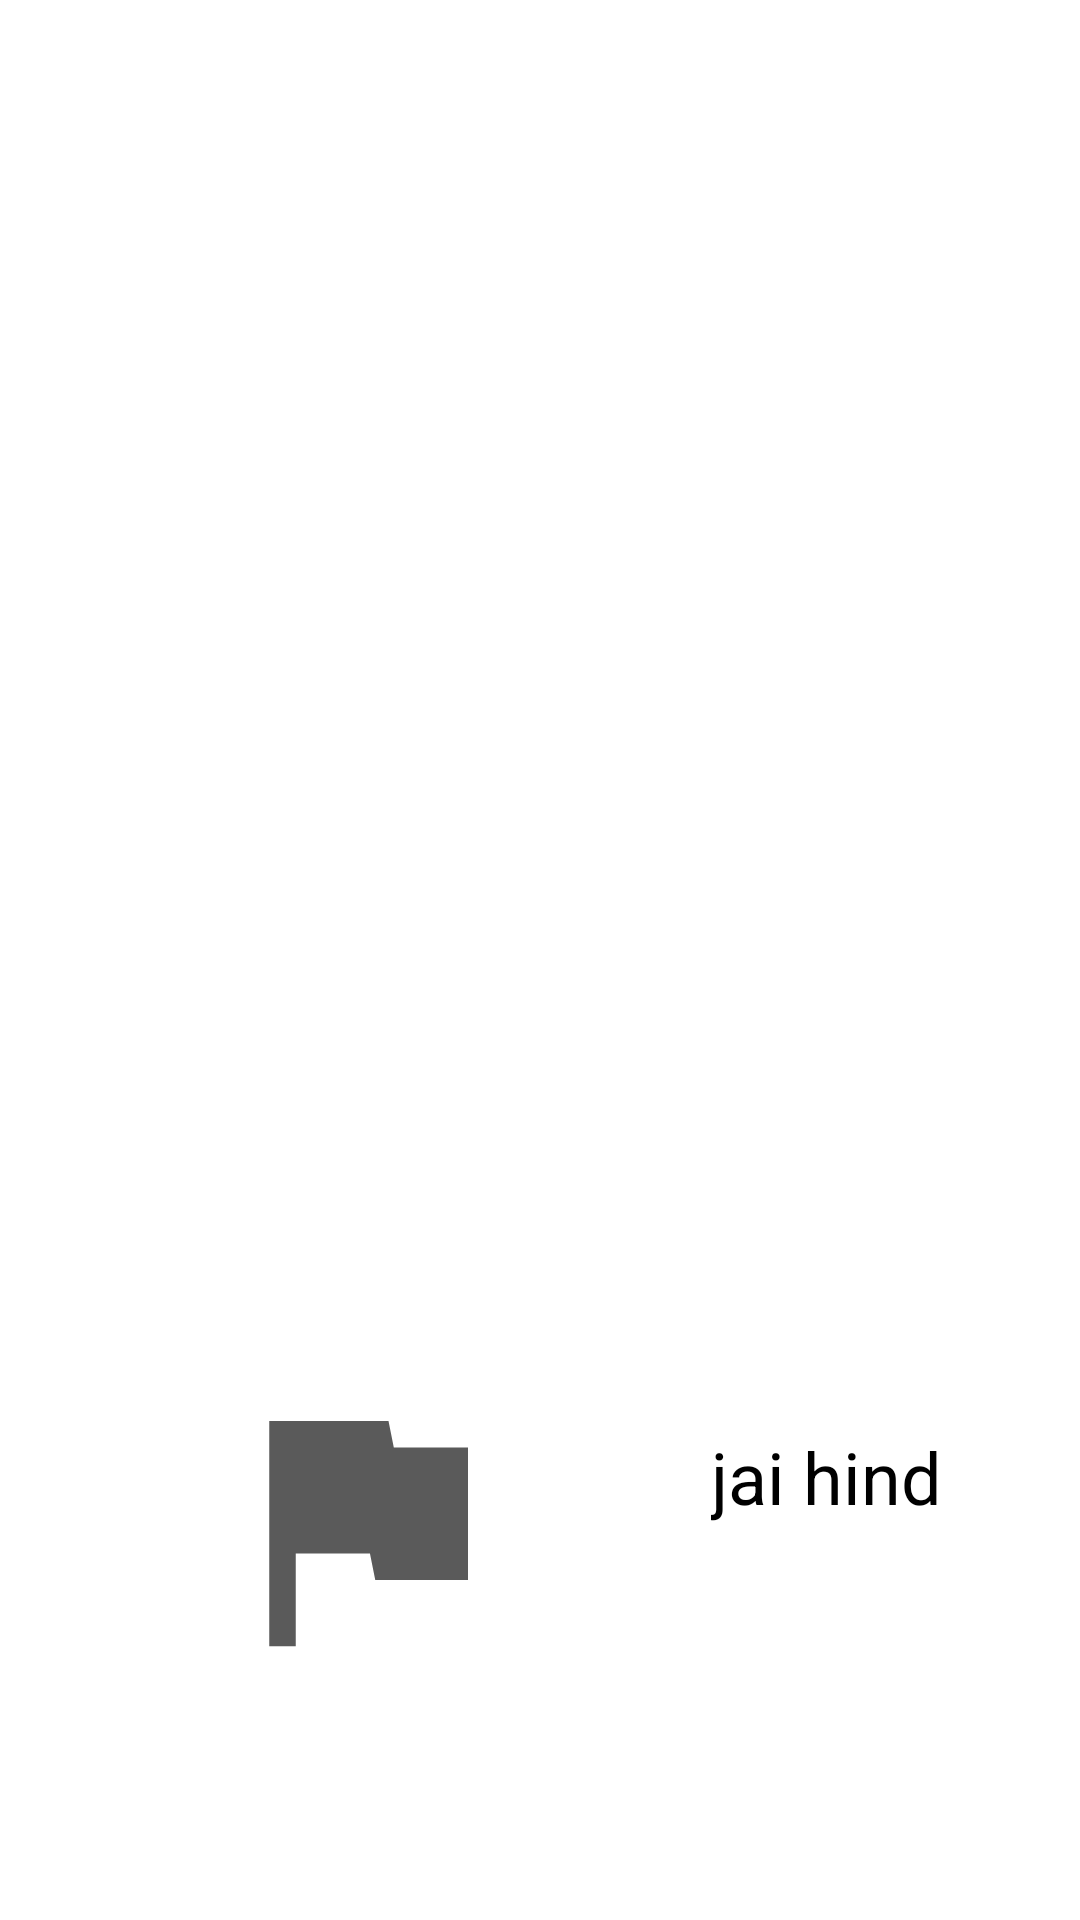

Icons on this 1080 x 1920 Android screen, each with the point to tap as (x=x, y=y):
assistant photo: (x=368, y=1534)
